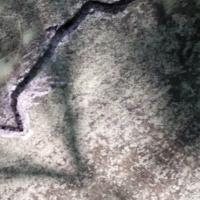crack: (1, 0, 132, 152)
